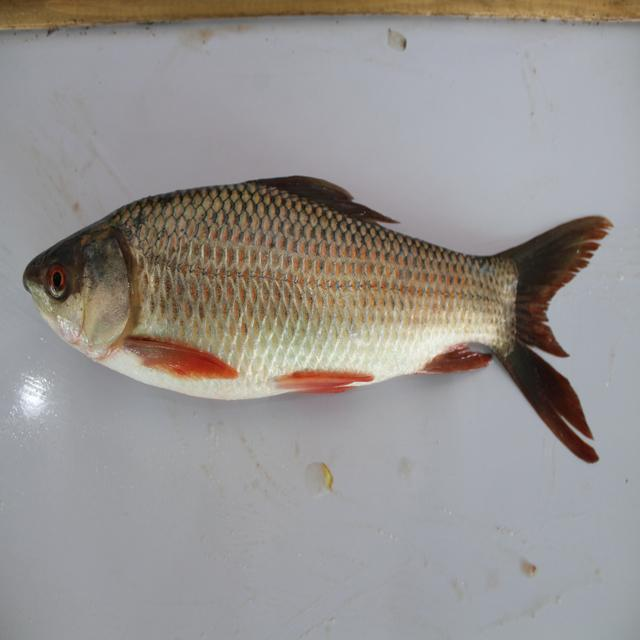Rohu: (28, 164, 605, 470)
